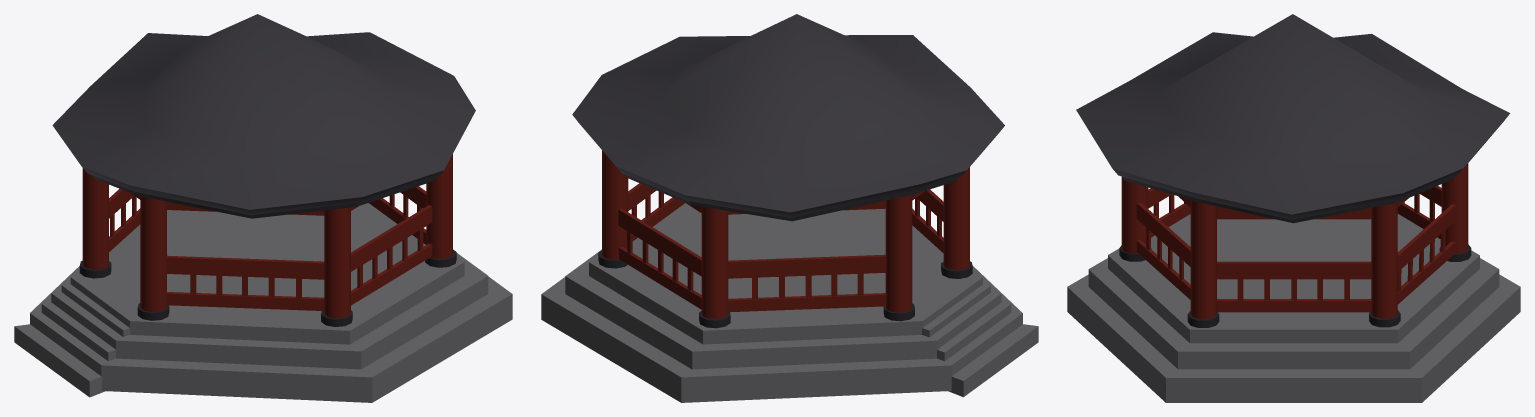
Rendered from alcove020.fbx.
3 views of the same model, side by side, from view 1: azimuth 30°, elevation 25°; view 2: azimuth 150°, elevation 25°; view 3: azimuth 270°, elevation 25° (orthographic). The views are drawn at different scales.
Visible parts, largest first — view 1: alcove020; view 2: alcove020; view 3: alcove020.
Boxes of the visible parts, x1,y1,x2,y2 form: alcove020: [14, 14, 512, 402]; alcove020: [541, 14, 1038, 402]; alcove020: [1067, 14, 1520, 402].
Size of the model in its own units: 1501 by 1095 by 1501.
